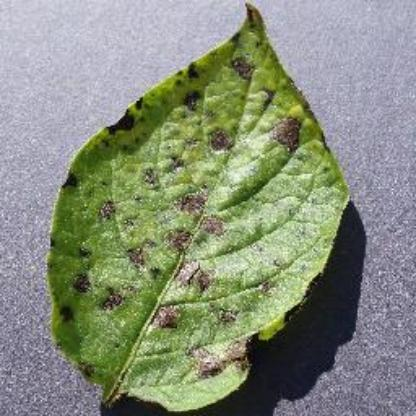Early-Blight: (43, 6, 356, 414)
